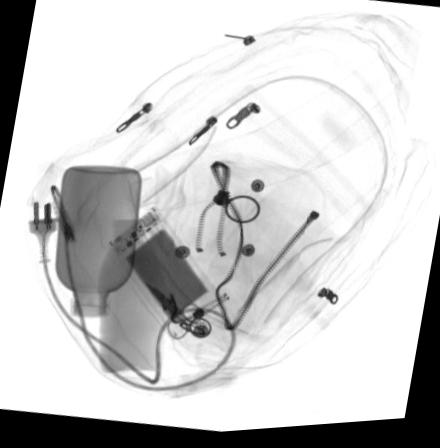Powerbank: (107, 209, 226, 334)
Scissors: (142, 285, 202, 345)
